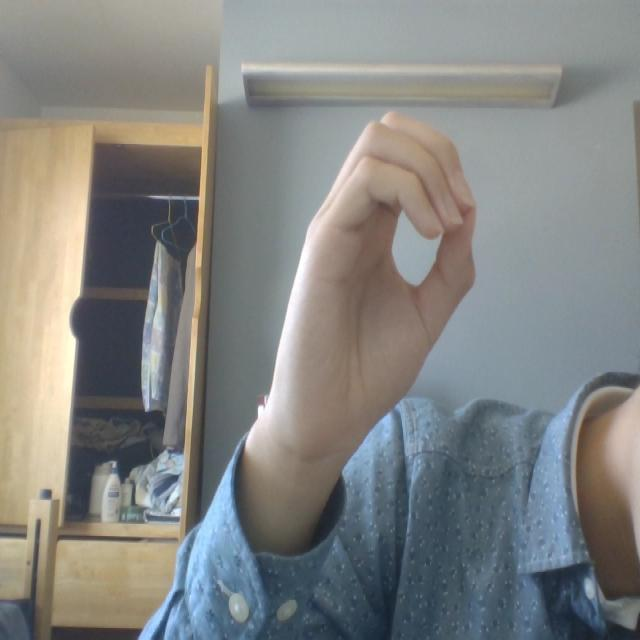O: (260, 79, 520, 500)
